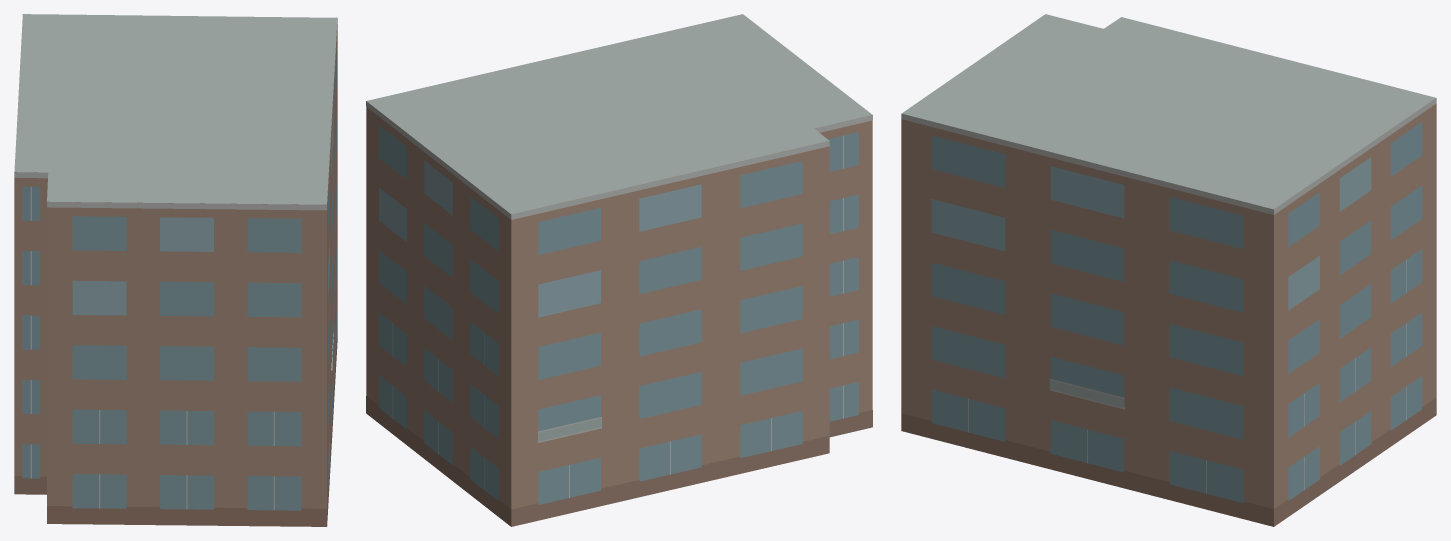
Rendered from survey-upis-33042587.glb.
3 views of the same model, side by side, from view 1: azimuth 30°, elevation 25°; view 2: azimuth 150°, elevation 25°; view 3: azimuth 270°, elevation 25° (orthographic). The views are drawn at different scales.
Parts seen in each view (by area): view 1: survey-upis-33042587.tmp; view 2: survey-upis-33042587.tmp; view 3: survey-upis-33042587.tmp.
Part boxes in pixels (<box>): survey-upis-33042587.tmp: <box>14,14,337,526</box>; survey-upis-33042587.tmp: <box>366,14,872,526</box>; survey-upis-33042587.tmp: <box>901,14,1436,526</box>.
Bounding box in the file's own units: 18.23 × 13.8 × 21.09.
